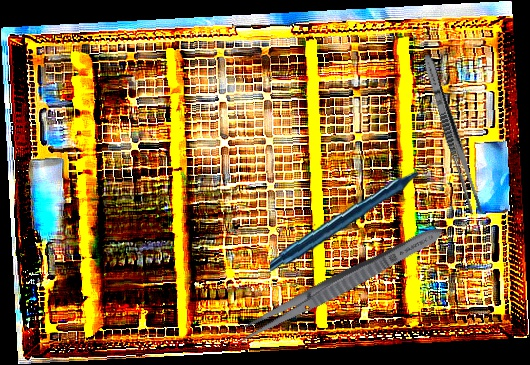Dressing Forceps: (232, 219, 448, 350), (418, 52, 486, 216)
Handpiece: (269, 150, 444, 284)
